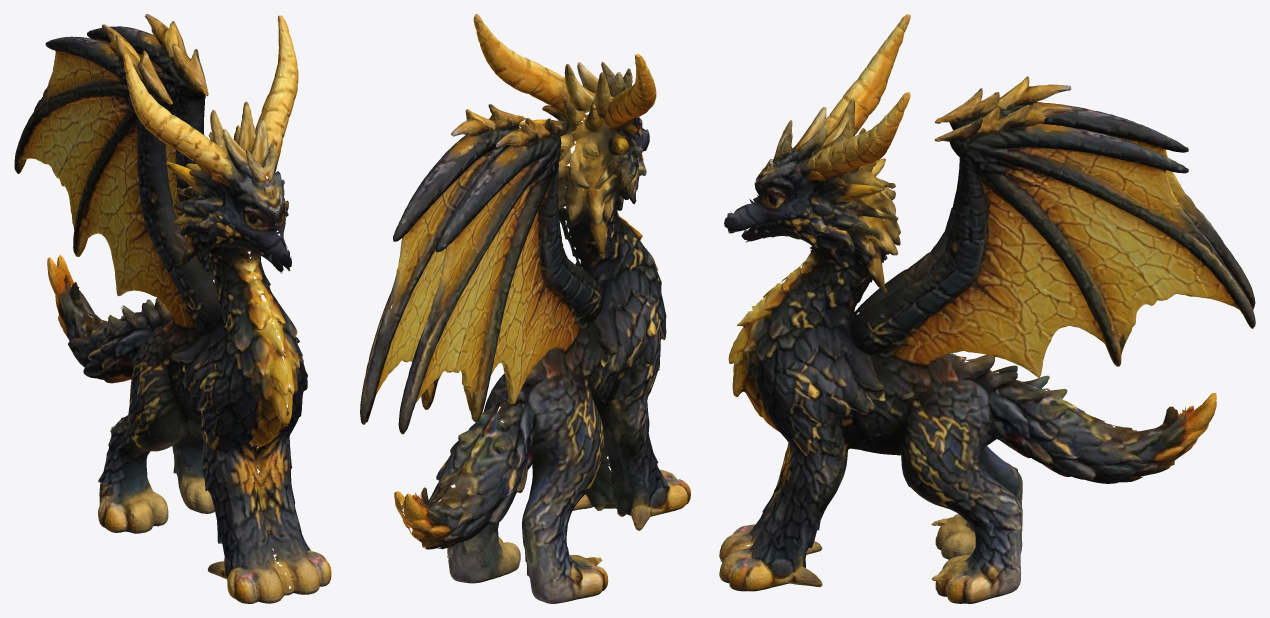
Rendered from obsidragon.glb.
The picture shows the model from 3 angles, left to right: view 1: azimuth 30°, elevation 25°; view 2: azimuth 150°, elevation 25°; view 3: azimuth 270°, elevation 25°; orthographic projection. The views are drawn at different scales.
Parts seen in each view (by area): view 1: plush; view 2: plush; view 3: plush.
Boxes of the visible parts, <box> form: plush: <box>14,14,331,603</box>; plush: <box>360,14,690,603</box>; plush: <box>719,14,1255,603</box>.
Size of the model in its own units: 0.337 by 0.9798 by 0.9202.
1 material, 1 textured.
